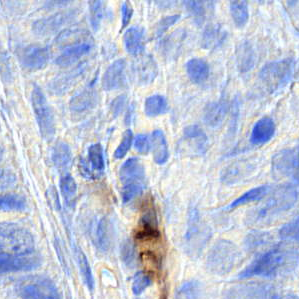Lymphocyte: (133, 218, 167, 296)
